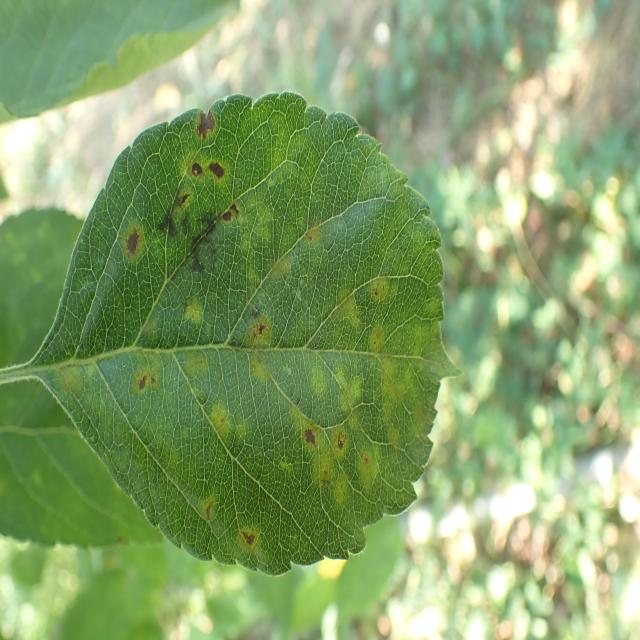scab: (53, 124, 444, 570)
